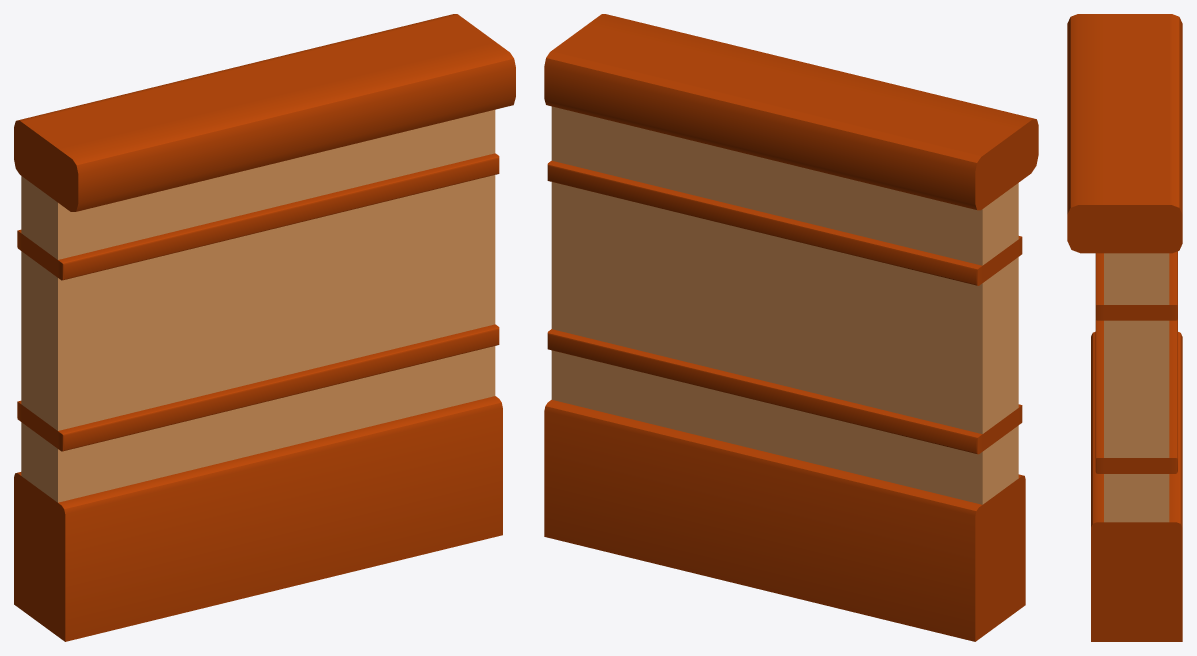
File: New_Walls003.fbx
3 renders of one model, left to right at view 1: azimuth 30°, elevation 25°; view 2: azimuth 150°, elevation 25°; view 3: azimuth 270°, elevation 25°, orthographic. The views are drawn at different scales.
Visible parts, largest first — view 1: Wall005.2; view 2: Wall005.2; view 3: Wall005.2.
Part boxes in pixels (x1=…): Wall005.2: x1=14, y1=14, x2=515, y2=641; Wall005.2: x1=544, y1=14, x2=1038, y2=641; Wall005.2: x1=1067, y1=14, x2=1182, y2=641.
Size of the model in its own units: 250 by 266 by 63.58.
1 material, 1 textured.
